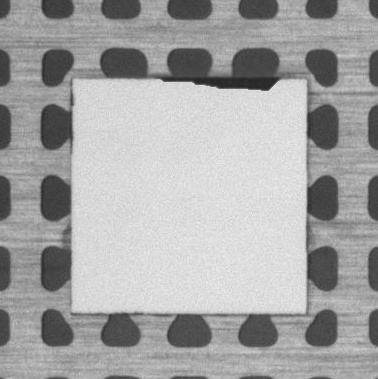DIE_BROKEN: (154, 71, 281, 90)
